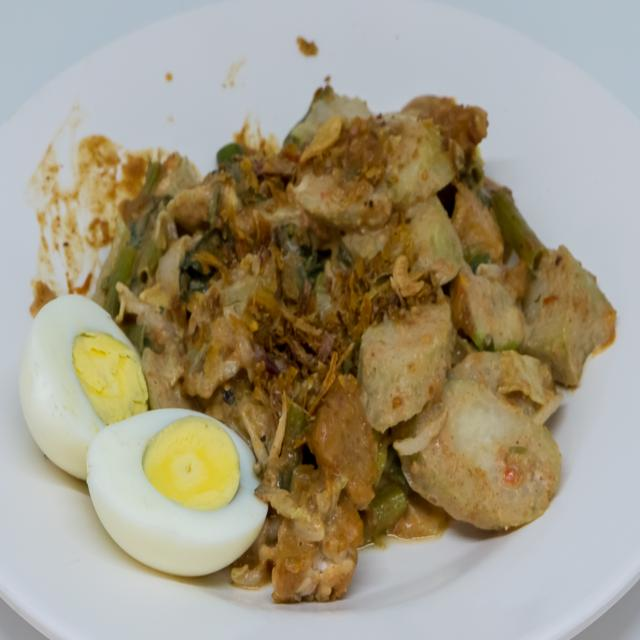Gado-Gado: (17, 84, 620, 612)
